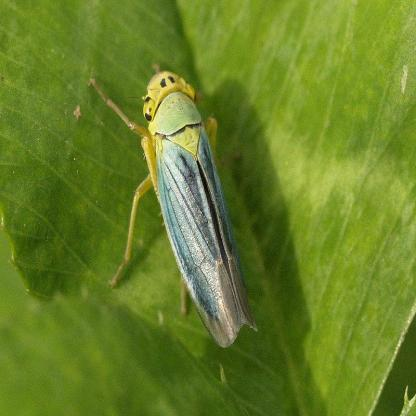Green-Leafhopper: (89, 64, 263, 346)
